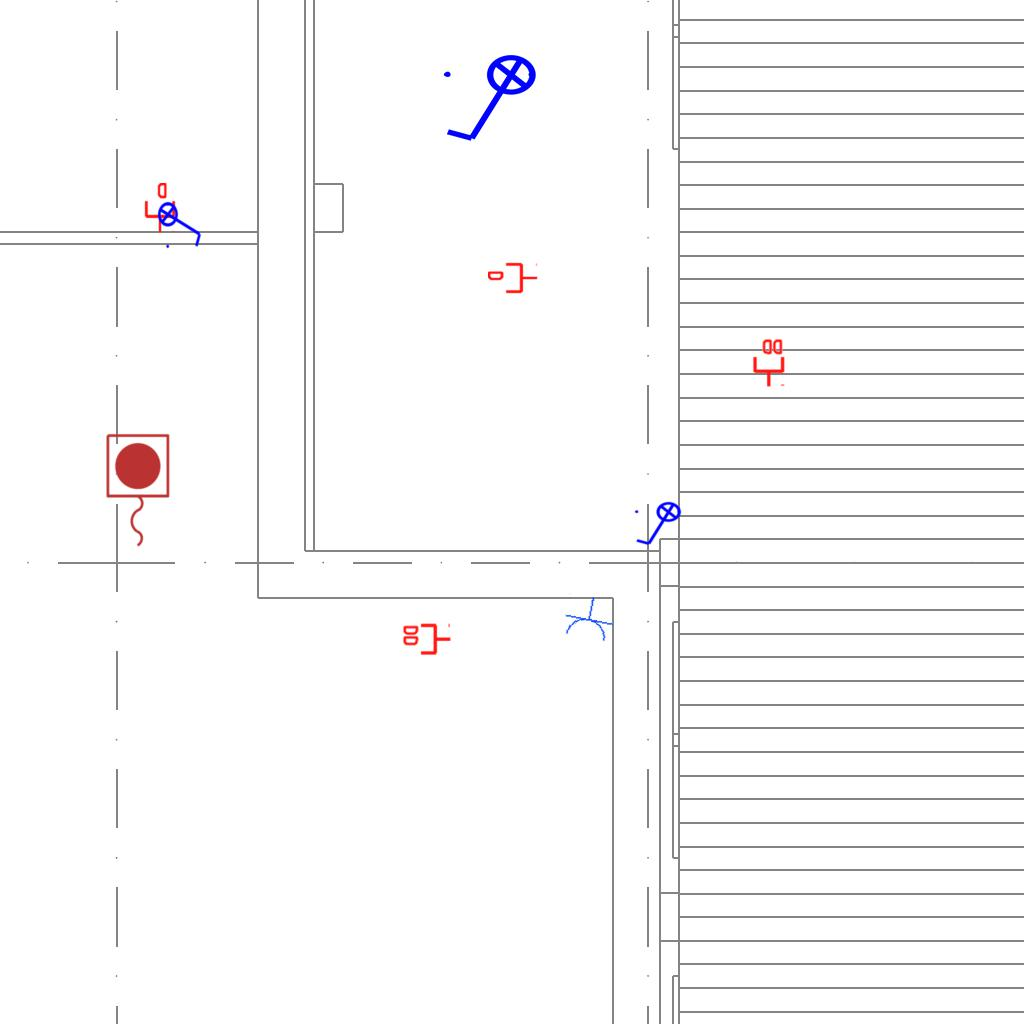Ausschalter_beleuchtet: (438, 53, 550, 149), (632, 501, 688, 549), (157, 195, 205, 251)
Datenanschluss_einfach: (143, 183, 177, 233), (488, 261, 538, 295)
Datenanschluss_zweifach: (751, 337, 785, 388), (401, 623, 452, 657)
Schukosteckdose_einfach: (560, 592, 618, 645)
Zugtaster: (101, 430, 173, 552)
